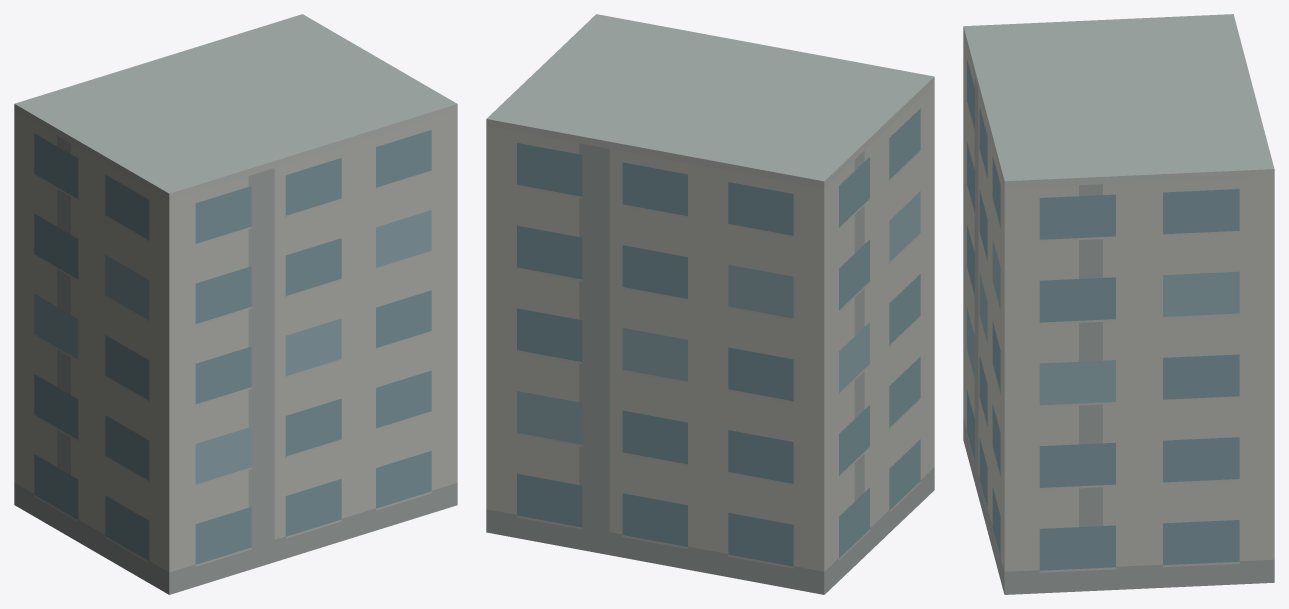
File: survey-upis-32952916.glb
3 renders of one model, left to right at view 1: azimuth 30°, elevation 25°; view 2: azimuth 150°, elevation 25°; view 3: azimuth 270°, elevation 25°, orthographic. The views are drawn at different scales.
Visible parts, largest first — view 1: survey-upis-32952916.tmp; view 2: survey-upis-32952916.tmp; view 3: survey-upis-32952916.tmp.
Boxes of the visible parts, x1,y1,x2,y2 form: survey-upis-32952916.tmp: (14, 14, 457, 594); survey-upis-32952916.tmp: (486, 14, 934, 594); survey-upis-32952916.tmp: (963, 14, 1274, 594).
Bounding box in the file's own units: 12.06 × 13.9 × 9.49.
